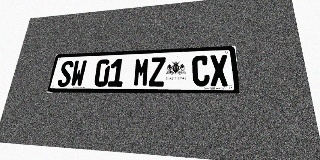0: (93, 59, 111, 87)
1: (108, 58, 125, 87)
C: (192, 55, 210, 86)
M: (133, 57, 150, 87)
S: (57, 60, 74, 87)
W: (70, 60, 87, 87)
X: (209, 54, 229, 86)
Z: (149, 57, 166, 86)
